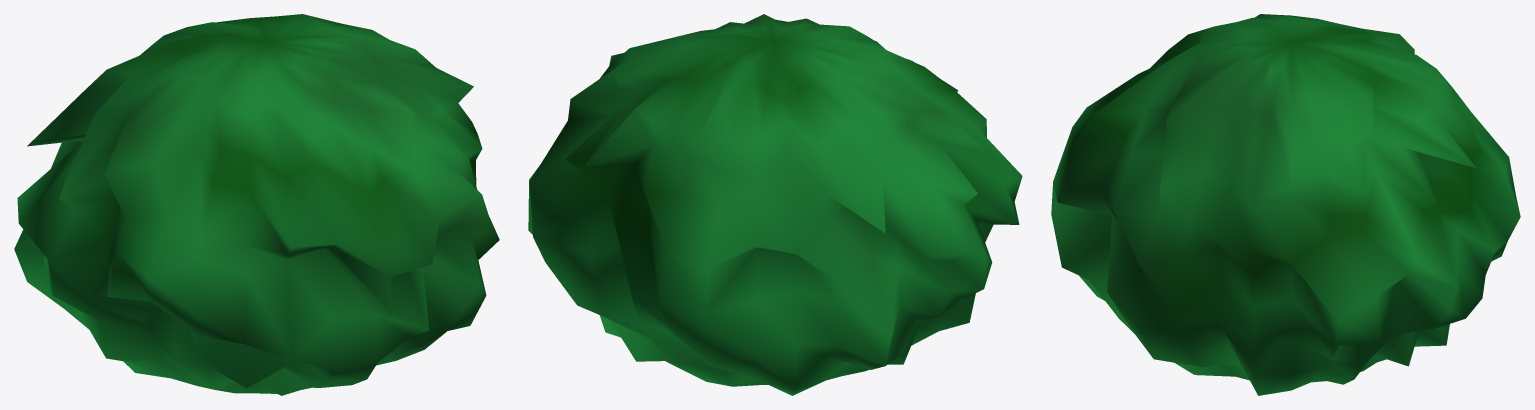
Rendered from Bush.fbx.
3 renders of one model, left to right at view 1: azimuth 30°, elevation 25°; view 2: azimuth 150°, elevation 25°; view 3: azimuth 270°, elevation 25°, orthographic. The views are drawn at different scales.
Visible parts, largest first — view 1: ArbustoPequeno; view 2: ArbustoPequeno; view 3: ArbustoPequeno.
Boxes of the visible parts, x1,y1,x2,y2 form: ArbustoPequeno: [14, 14, 499, 395]; ArbustoPequeno: [528, 14, 1022, 395]; ArbustoPequeno: [1051, 14, 1520, 395].
Bounding box in the file's own units: 229 × 149 × 214.
